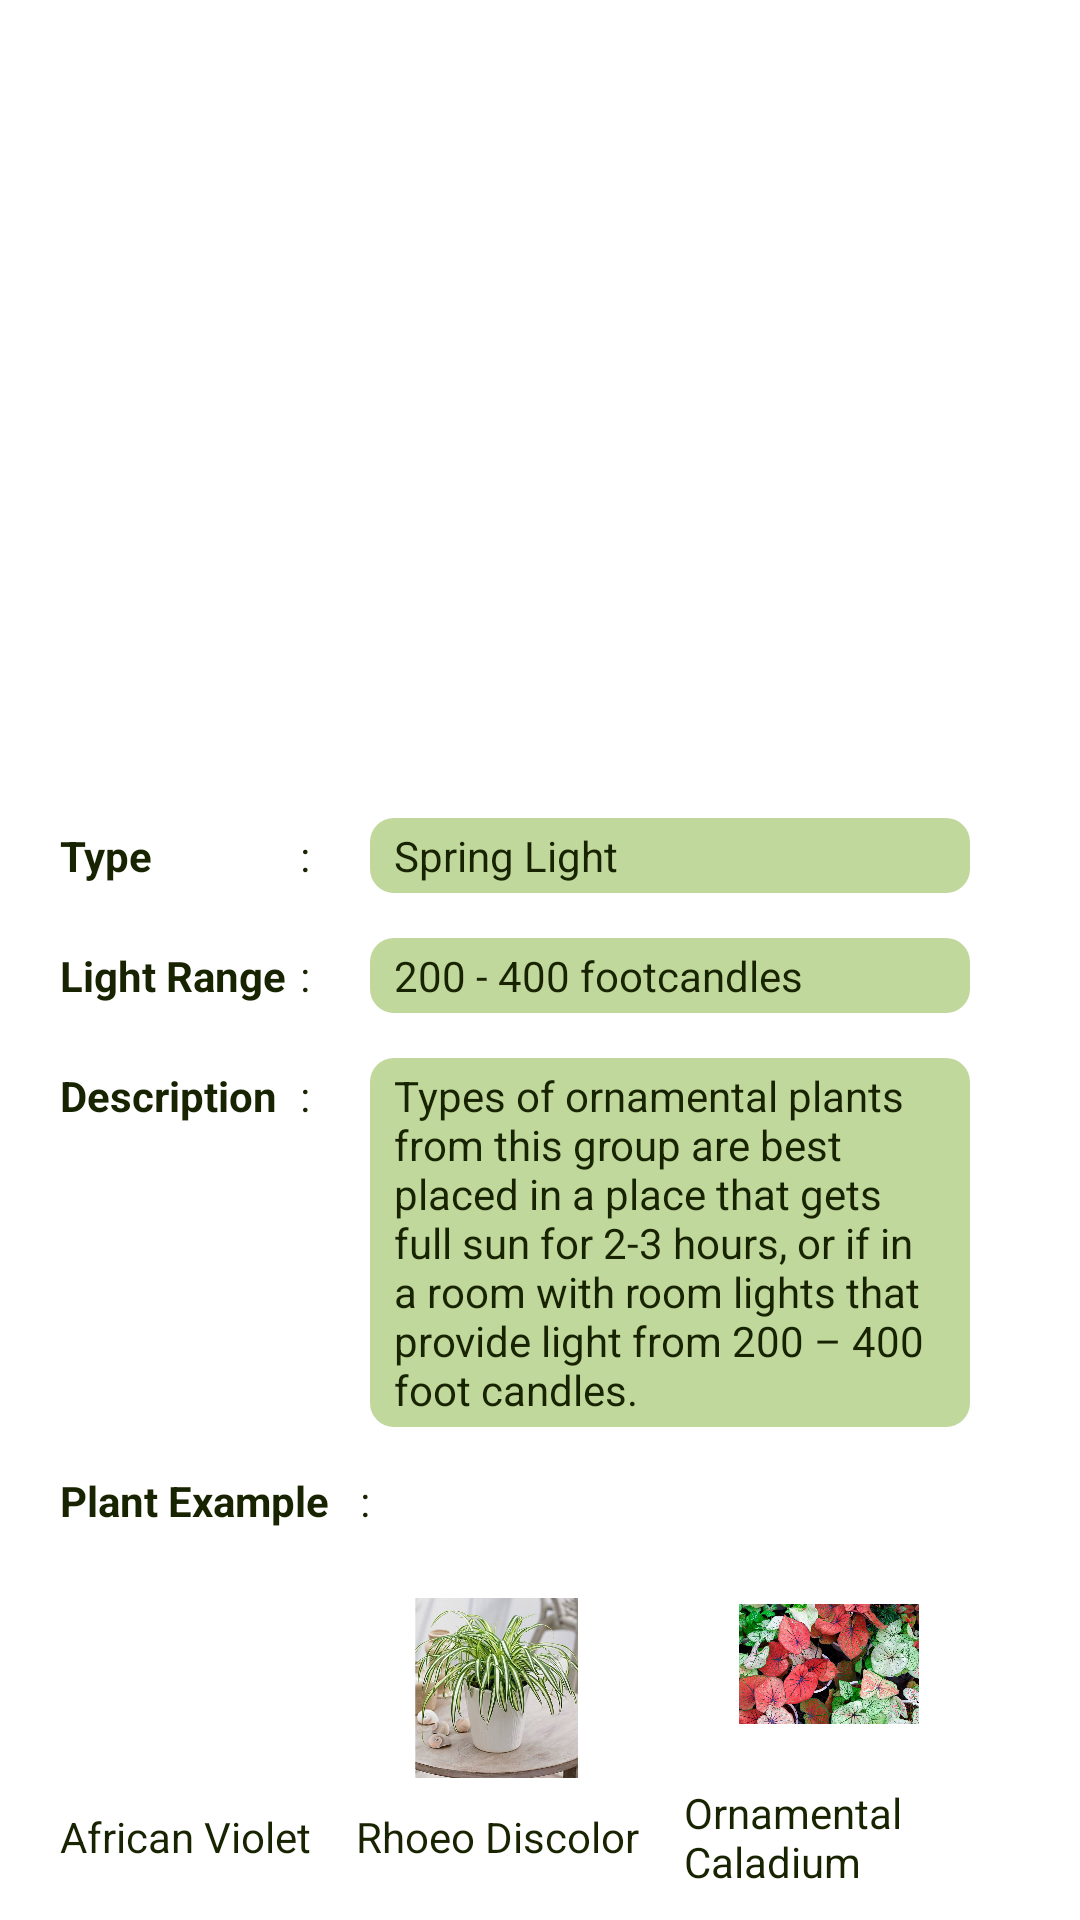

Icon click points for this 1080w x 1920h phone screenshot, format (x,y):
keladi hias: (829,1664)
lili paris: (496,1688)
